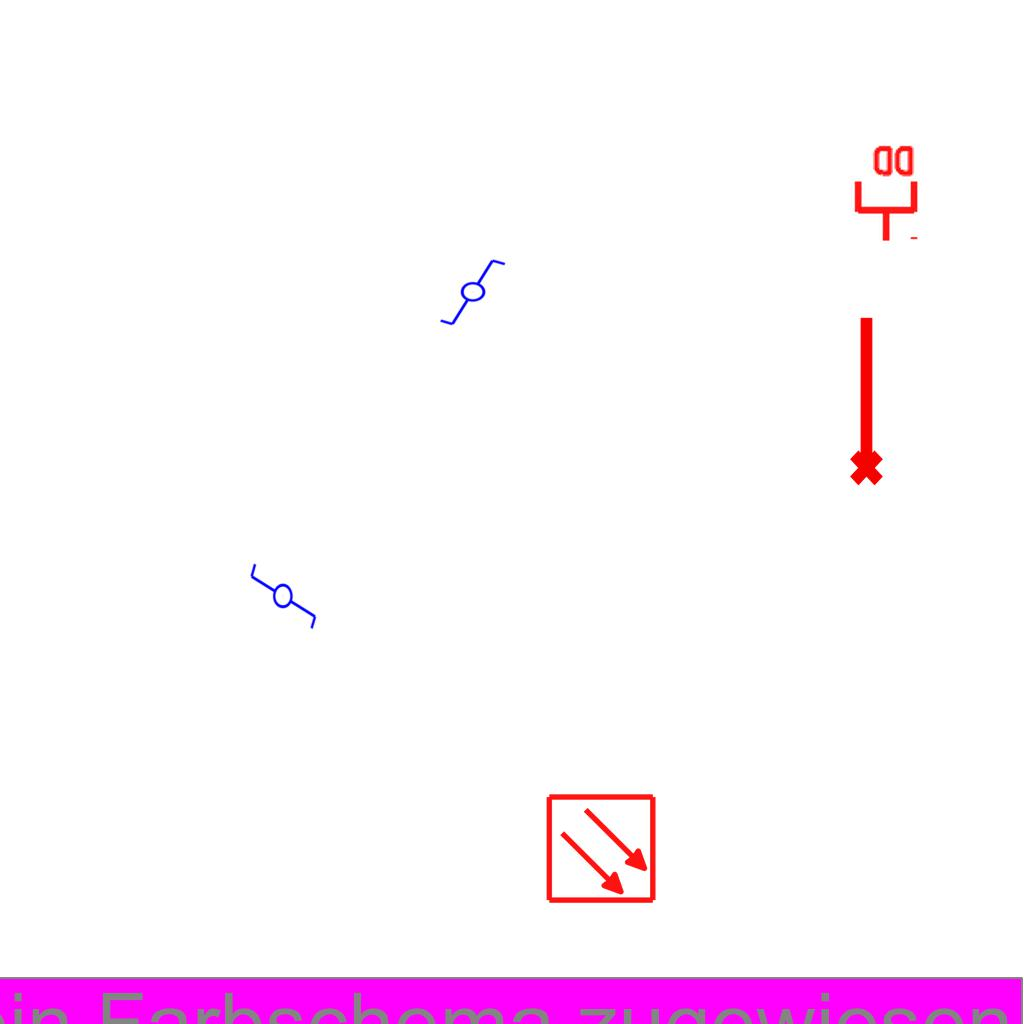ASR_Ansaugoeffnung: (841, 312, 887, 488)
Datenanschluss_zweifach: (850, 141, 919, 244)
RMO_Rauchmelder_optischer: (545, 792, 658, 905)
Wechselschalter: (438, 257, 516, 329), (248, 553, 320, 631)
